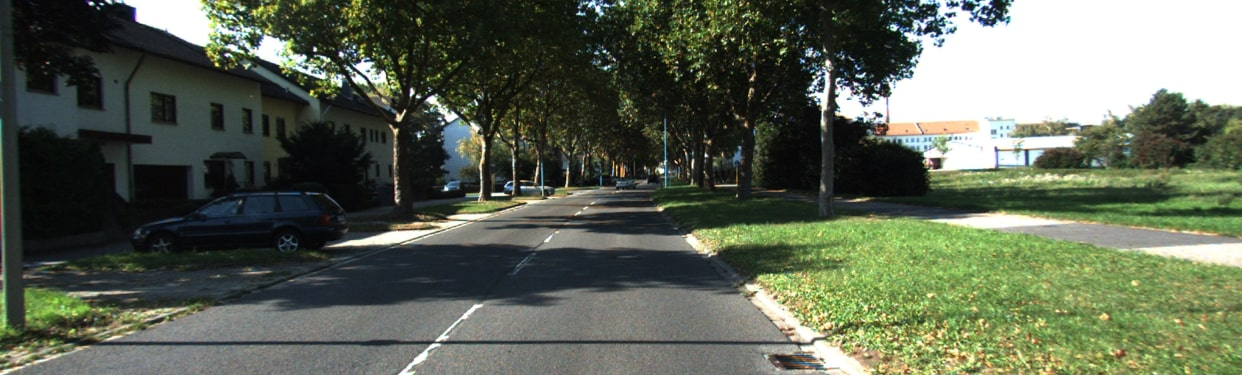car: (129, 188, 355, 256), (503, 178, 554, 197), (614, 174, 637, 189), (648, 172, 660, 184)
